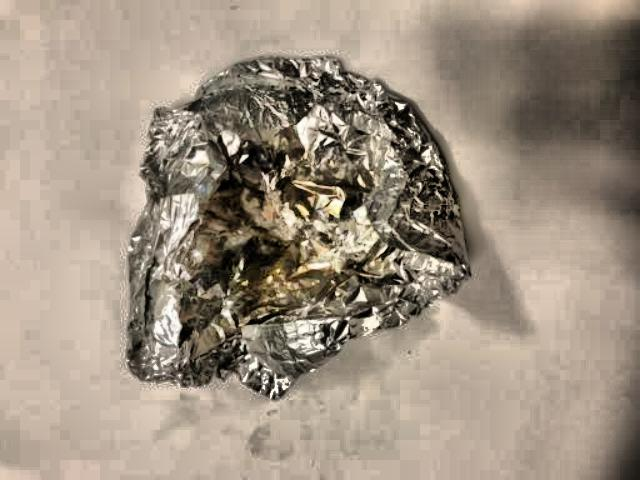Almennt: (89, 41, 480, 417)
